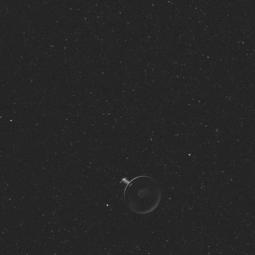debris: (116, 167, 164, 217)
